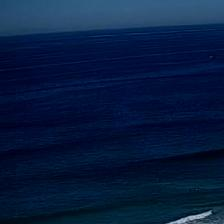surfer: (110, 182, 119, 184), (127, 187, 132, 190), (149, 200, 154, 203), (158, 178, 161, 182), (196, 187, 202, 189), (189, 189, 192, 192), (159, 201, 163, 203)
